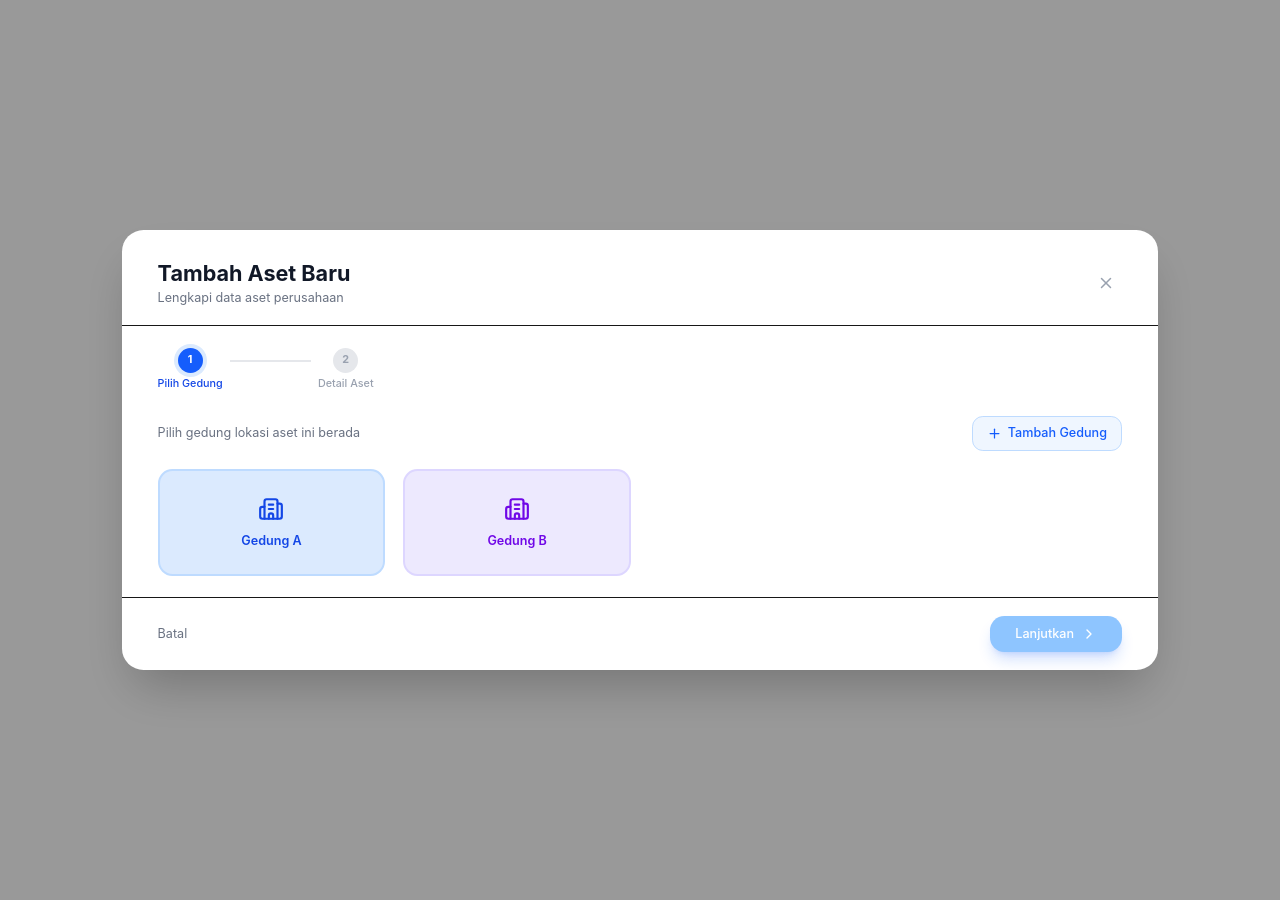
Test: AddAssetModal — visibility › shows the gedung picker on open and gates "Lanjutkan" until one is selected
Expected: the text "Gedung A" is shown, top-left (241, 533), bottom-right (302, 548)
Expected: the button "Lanjutkan" is disabled, top-left (990, 616), bottom-right (1122, 652)
Step 1. Click the button "Gedung A" → (271, 522), box top-left (158, 469), bottom-right (385, 576)
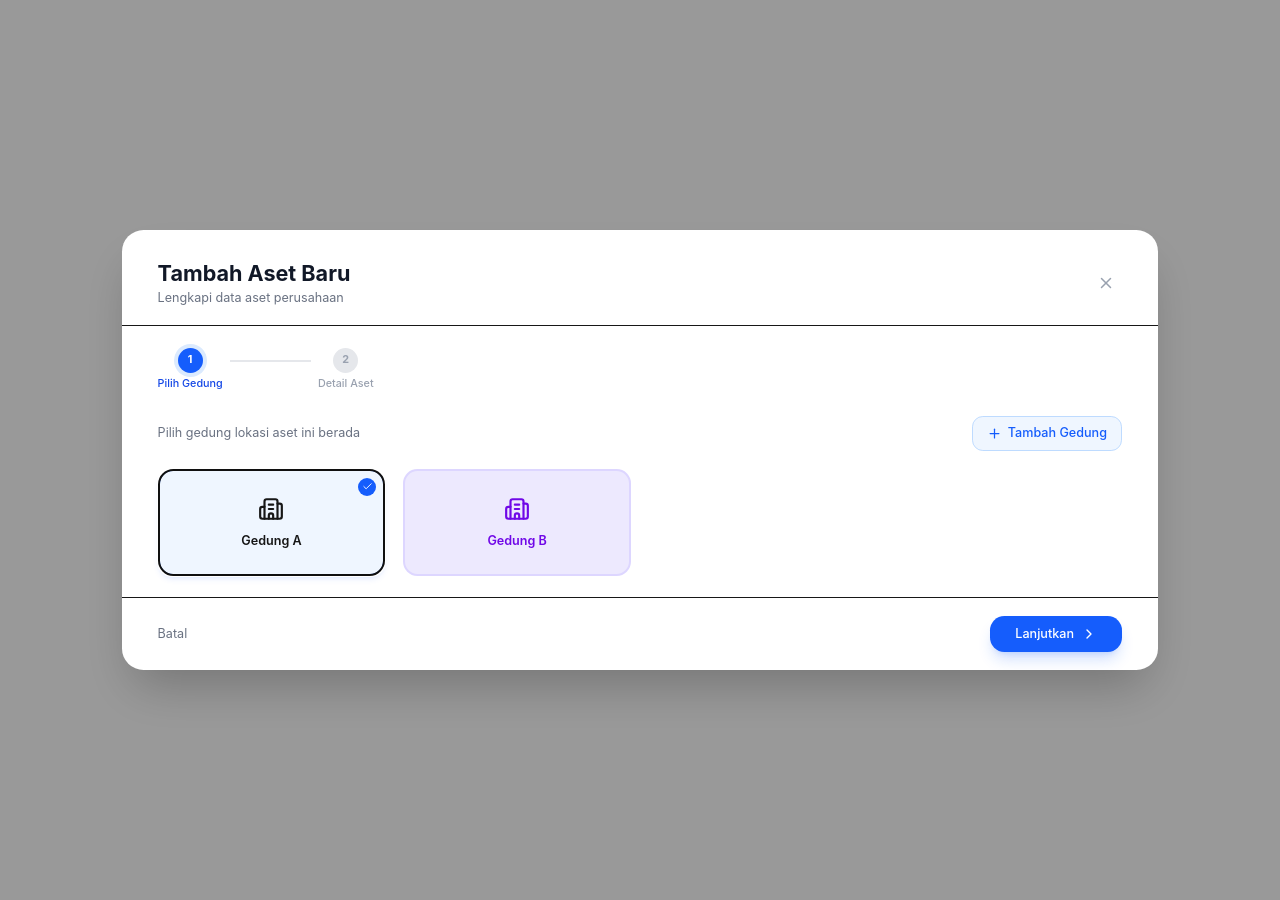
Result: the button "Lanjutkan" is enabled at top-left (990, 616), bottom-right (1122, 652)
